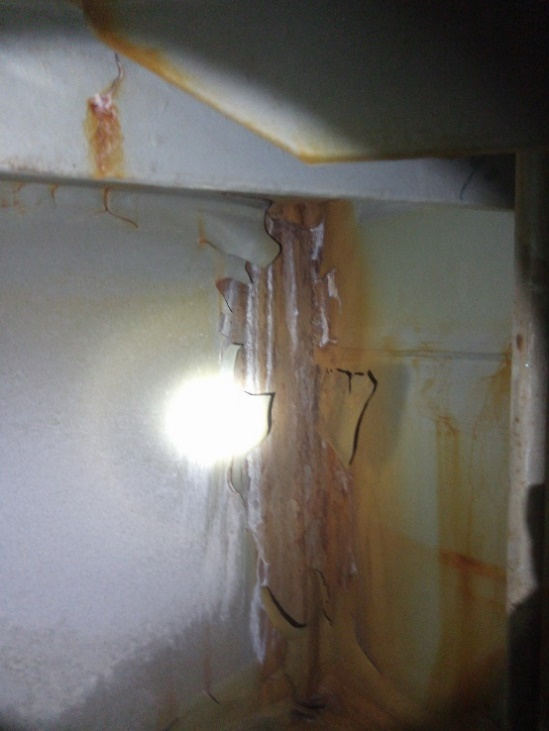corrosion: (223, 513, 390, 731), (411, 387, 511, 719), (240, 364, 393, 504), (211, 269, 370, 378), (166, 78, 287, 156), (293, 122, 447, 177), (70, 88, 148, 181), (78, 6, 182, 75), (256, 201, 366, 254), (476, 328, 517, 383)
